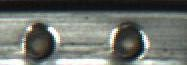joints: (0, 18, 61, 64), (108, 19, 150, 64)
press: (0, 0, 160, 64)
